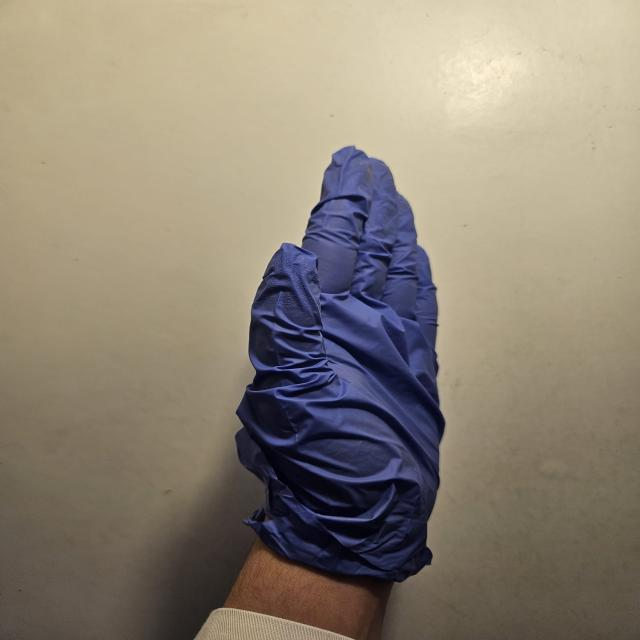gloves_damaged: (233, 144, 446, 585)
